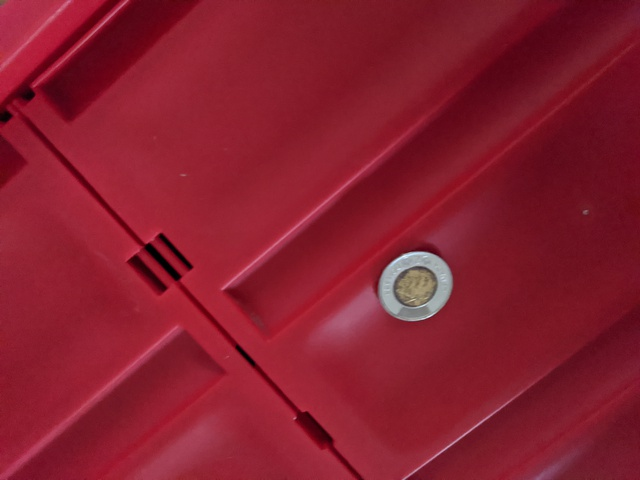twonie: (372, 232, 455, 325)
